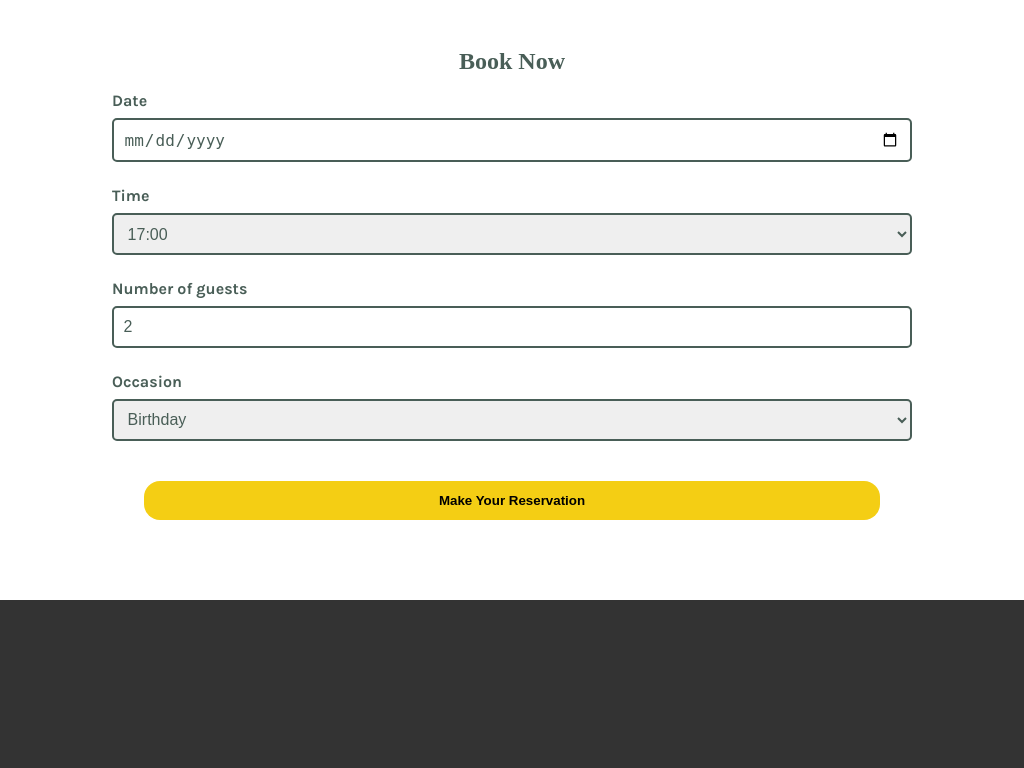
it: Booking Form › Invalid (empty) date shows error
Click the date field named "Select a date" at {"x": 512, "y": 140}, box 112,118 -> 912,162
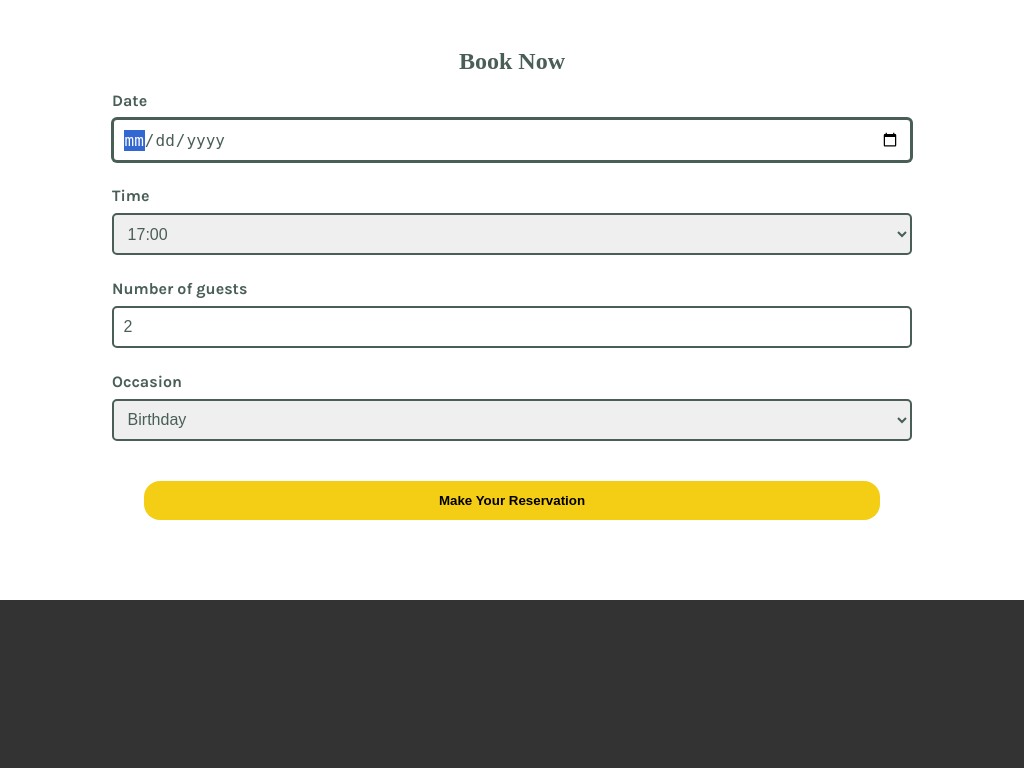
Press Tab
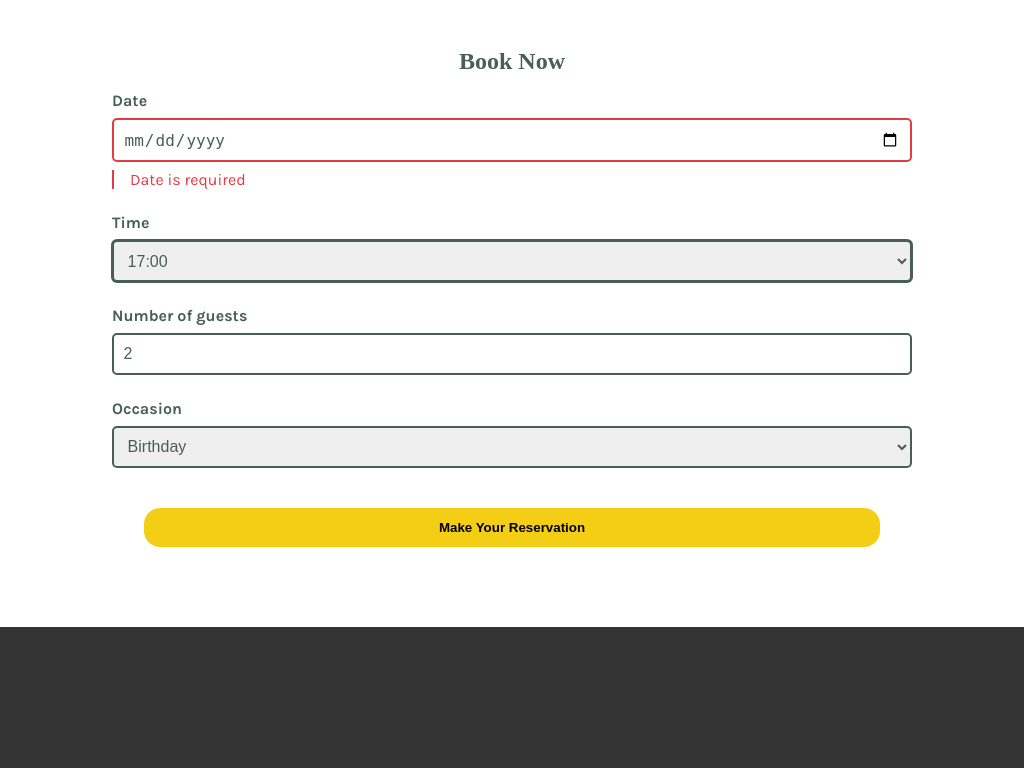
expect the text "Date is required" is shown: met, box 112,170 -> 912,189
